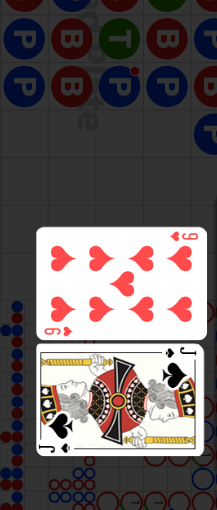9H: (169, 230, 200, 243)
JS: (38, 411, 85, 455), (159, 344, 205, 388)
